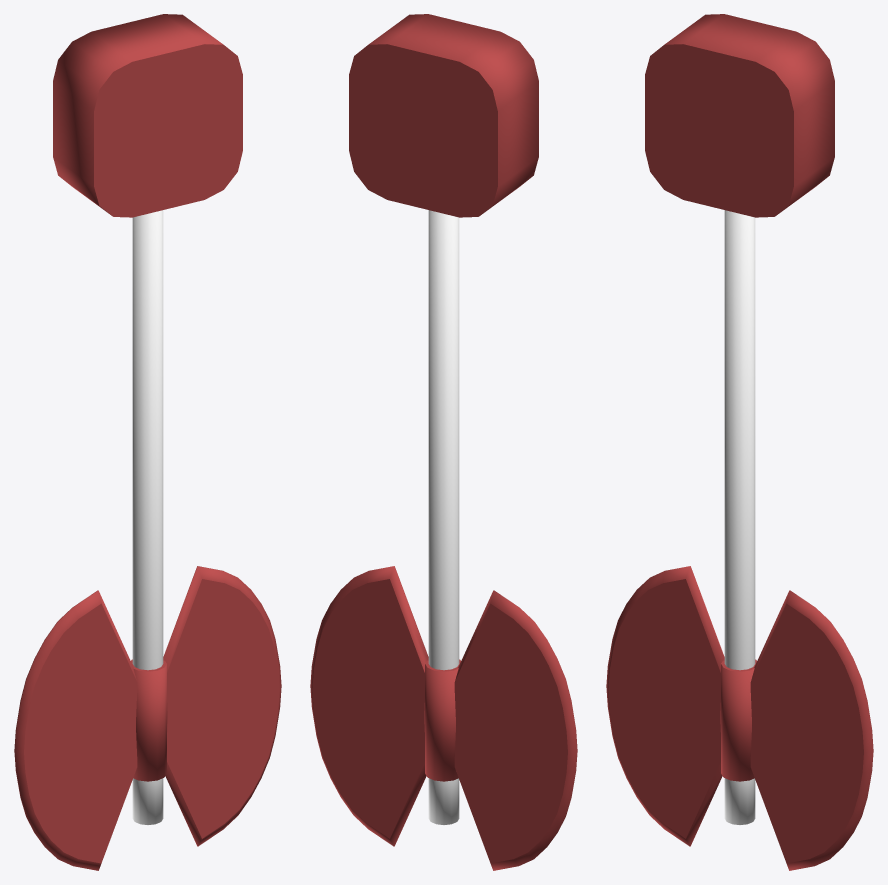
File: Gimmick_05.fbx
3 views of the same model, side by side, from view 1: azimuth 30°, elevation 25°; view 2: azimuth 150°, elevation 25°; view 3: azimuth 330°, elevation 25° (orthographic).
Parts seen in each view (by area): view 1: Gimmick_05_Body, Gimmick_05_Head; view 2: Gimmick_05_Body, Gimmick_05_Head; view 3: Gimmick_05_Body, Gimmick_05_Head.
Part boxes in pixels (<box>): Gimmick_05_Body: <box>14,210,281,870</box>; Gimmick_05_Head: <box>53,14,242,217</box>; Gimmick_05_Body: <box>310,210,577,870</box>; Gimmick_05_Head: <box>349,14,538,217</box>; Gimmick_05_Body: <box>606,210,873,870</box>; Gimmick_05_Head: <box>645,14,834,217</box>.
Bounding box in the file's own units: 1.53 × 4.5 × 0.4092.
